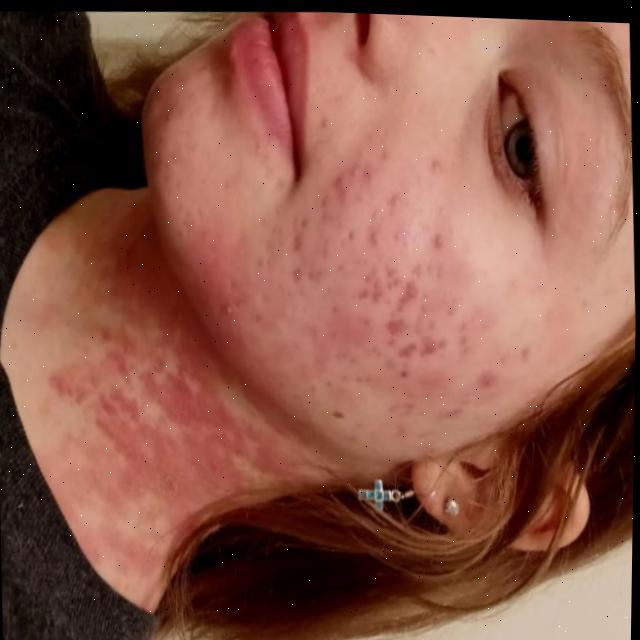Rosacea: (38, 266, 334, 607), (223, 134, 538, 448)
